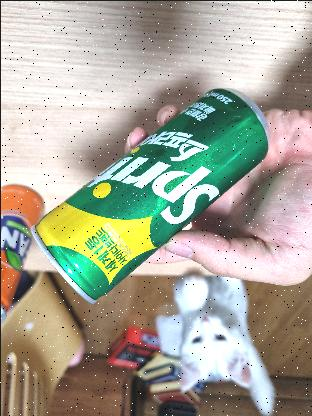Can: (33, 76, 261, 284)
